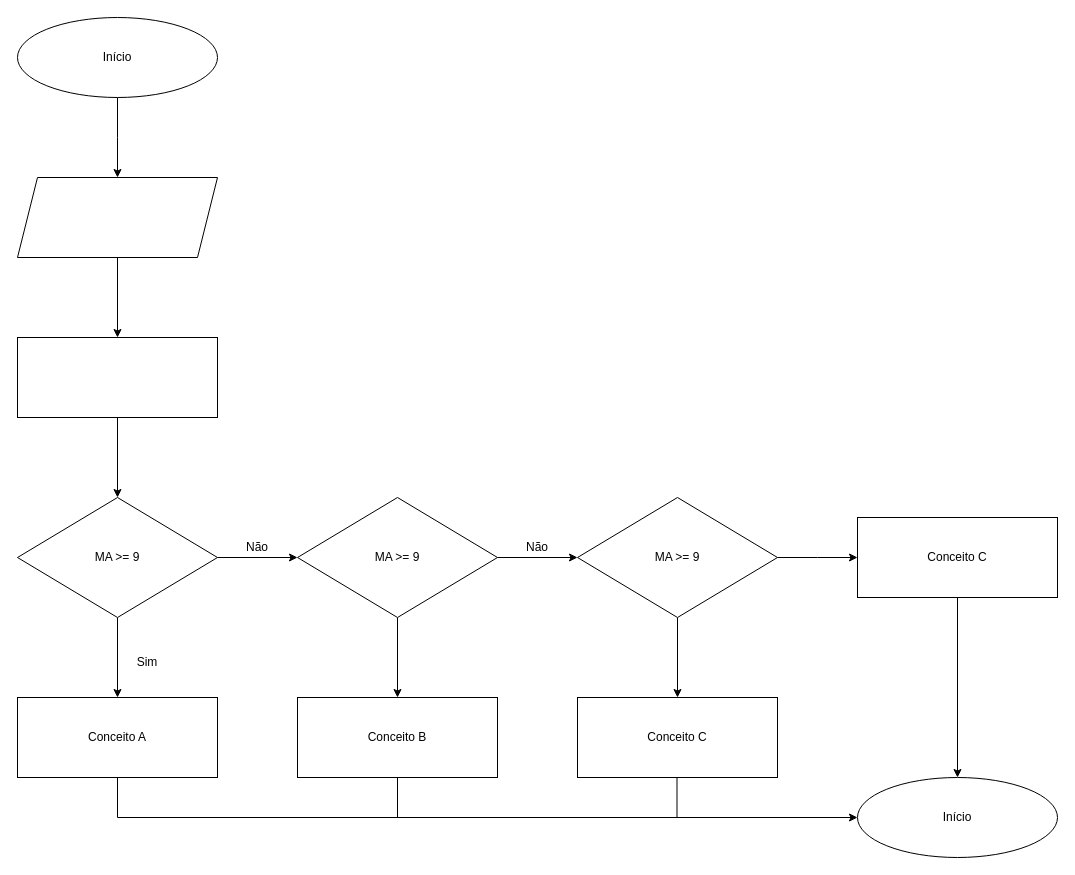
Some shapes in this 1075 by 875 pixel diagram are drawn without their labels. The box of each missing label's shape, as (x1, y1, x2, y2) in pixels:
MA = (4N1 = 7N2 + 10N3)/21: (16, 336, 218, 418)
N1, N2, N3: (16, 176, 218, 258)
